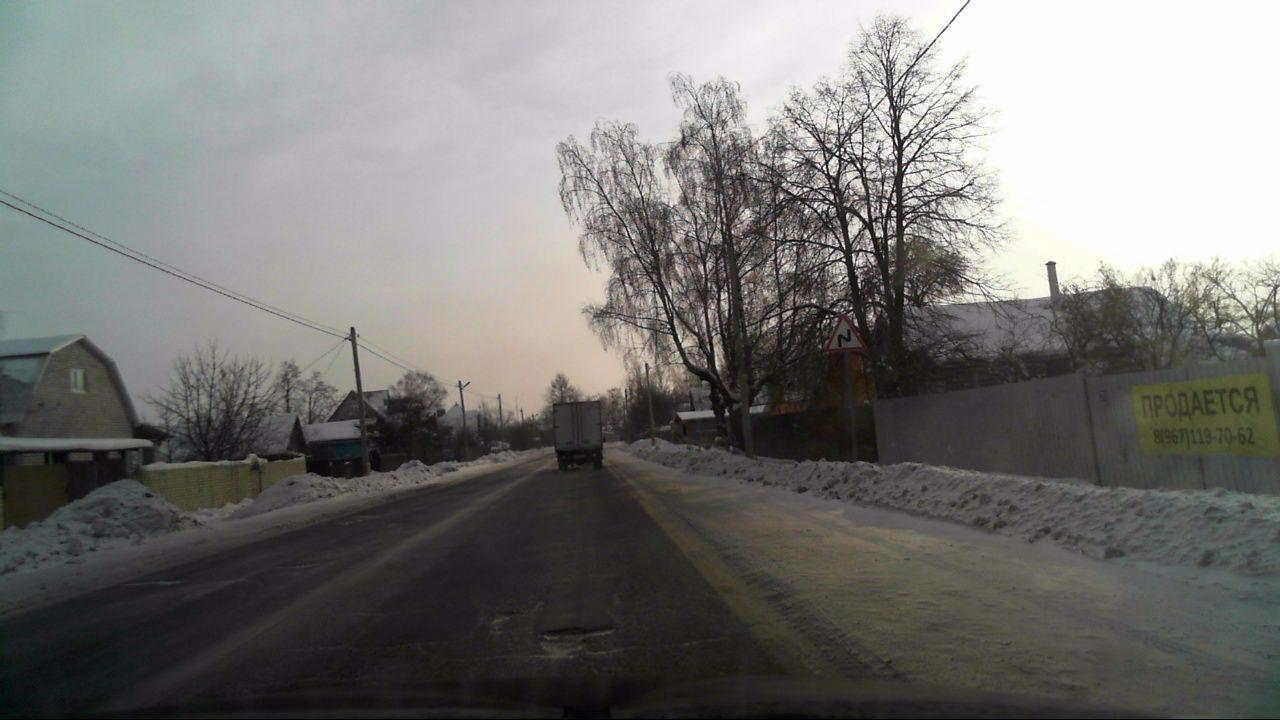1_12_1: (824, 315, 866, 354)
